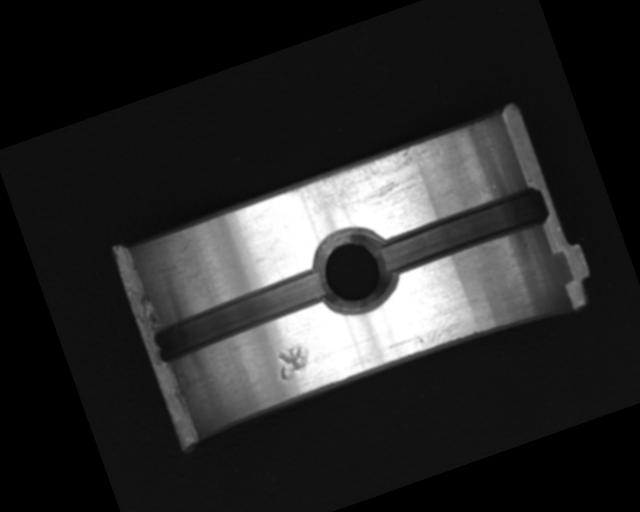bruise: (271, 341, 316, 382)
gap: (146, 264, 335, 369), (373, 183, 551, 279)
hole: (302, 217, 405, 325)
scratch: (281, 134, 455, 238)
